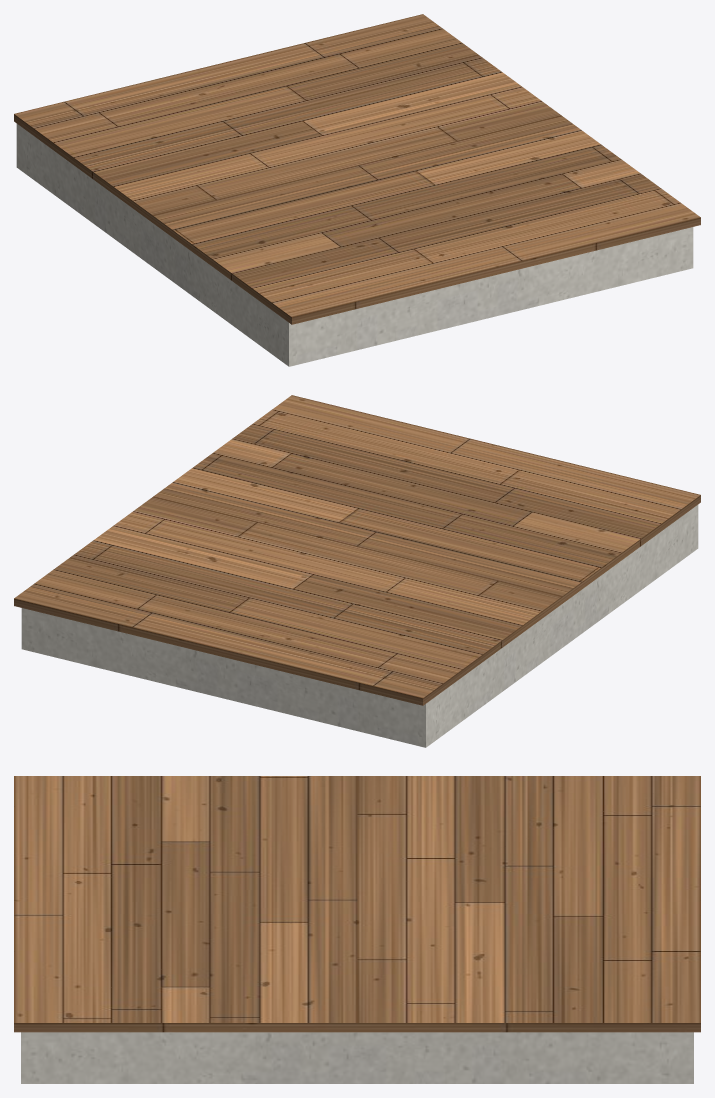
File: floor_wood_u_e30_0_0_0.glb
The picture shows the model from 3 angles, top to bottom: view 1: azimuth 30°, elevation 25°; view 2: azimuth 150°, elevation 25°; view 3: azimuth 270°, elevation 25°; orthographic projection. The views are drawn at different scales.
Parts seen in each view (by area): view 1: floor_wood_u_e30_0_0_0_floor, floor_wood_u_e30_0_0_0_plaster; view 2: floor_wood_u_e30_0_0_0_floor, floor_wood_u_e30_0_0_0_plaster; view 3: floor_wood_u_e30_0_0_0_floor, floor_wood_u_e30_0_0_0_plaster.
Boxes of the visible parts, x1=… form: floor_wood_u_e30_0_0_0_floor: x1=14, y1=14, x2=700, y2=324; floor_wood_u_e30_0_0_0_plaster: x1=16, y1=124, x2=693, y2=366; floor_wood_u_e30_0_0_0_floor: x1=14, y1=395, x2=700, y2=705; floor_wood_u_e30_0_0_0_plaster: x1=21, y1=505, x2=698, y2=747; floor_wood_u_e30_0_0_0_floor: x1=14, y1=776, x2=700, y2=1032; floor_wood_u_e30_0_0_0_plaster: x1=21, y1=1032, x2=693, y2=1083.
Bounding box in the file's own units: 1.7 × 0.205 × 2.
Materials: 2 (2 with a texture image).
